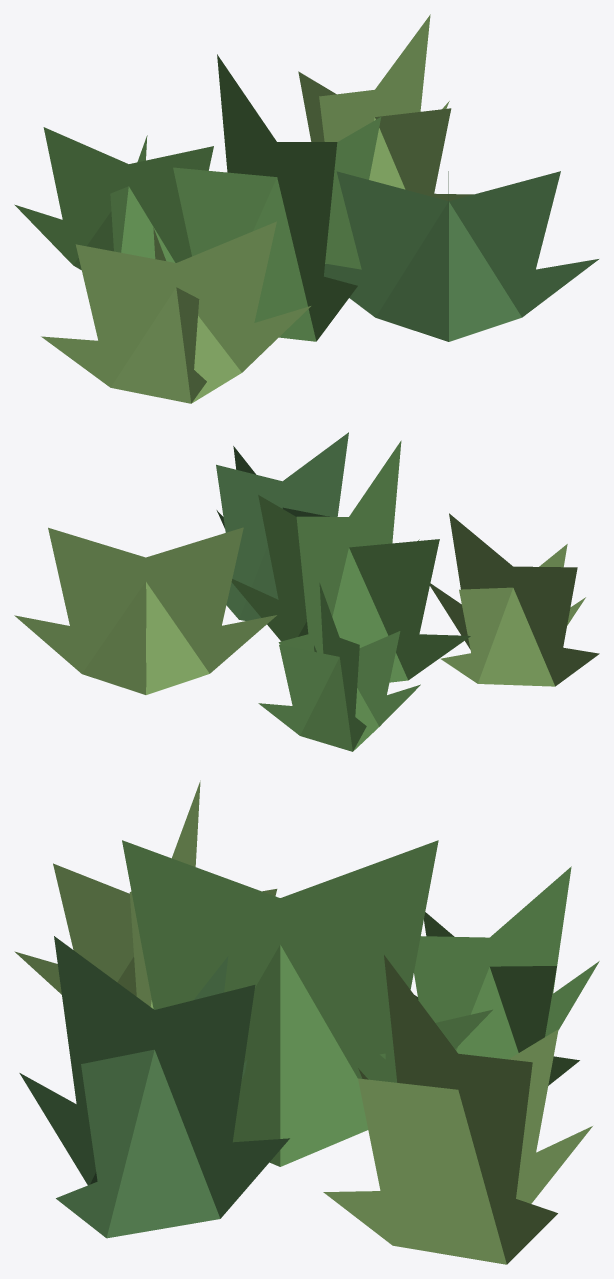
Rendered from veg_woodland_understory.glb.
The picture shows the model from 3 angles, top to bottom: view 1: azimuth 30°, elevation 25°; view 2: azimuth 150°, elevation 25°; view 3: azimuth 270°, elevation 25°; orthographic projection. The views are drawn at different scales.
Parts seen in each view (by area): view 1: clump_2, clump_1, clump_0, clump_3, clump_4; view 2: clump_4, clump_0, clump_1, clump_3, clump_2; view 3: clump_0, clump_2, clump_4, clump_3, clump_1.
Boxes of the visible parts, box(x1,y1,x2,y2) form: clump_2: box(324, 171, 598, 341); clump_1: box(41, 221, 310, 403); clump_0: box(173, 54, 381, 341); clump_3: box(14, 127, 213, 269); clump_4: box(298, 14, 473, 200); clump_4: box(14, 527, 276, 694); clump_0: box(231, 440, 470, 682); clump_1: box(430, 513, 599, 686); clump_3: box(258, 583, 420, 751); clump_2: box(216, 432, 348, 620); clump_0: box(122, 840, 492, 1166); clump_2: box(19, 936, 289, 1238); clump_4: box(323, 955, 592, 1264); clump_3: box(380, 866, 599, 1085); clump_1: box(14, 780, 277, 1008).
Bounding box in the file's own units: 0.7849 × 0.2985 × 0.5597.
